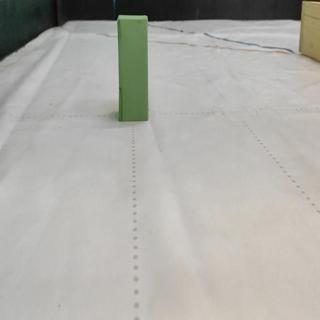greenbox: (117, 13, 149, 122)
